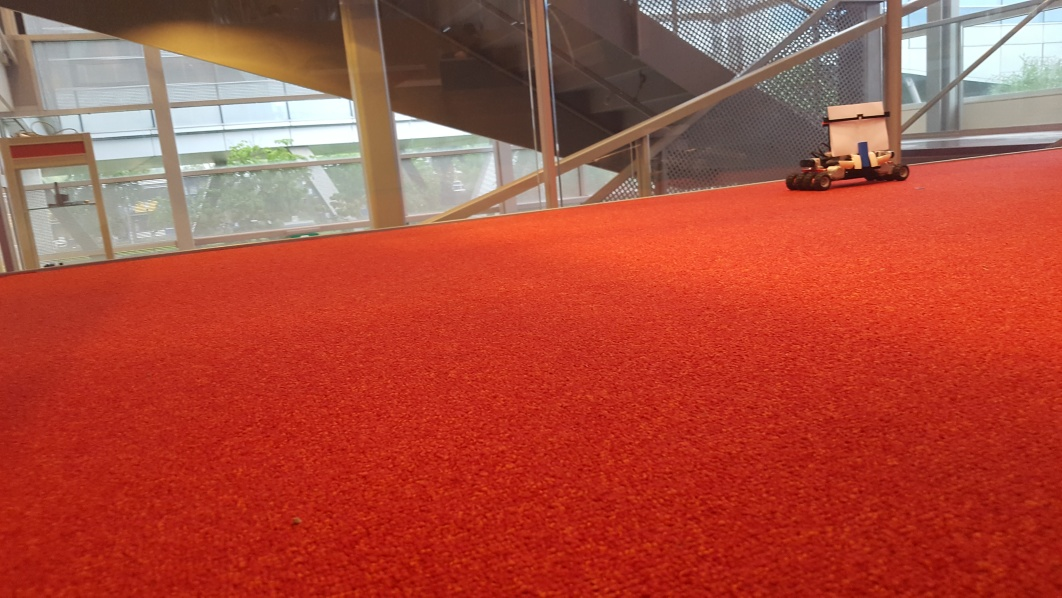car: (785, 100, 912, 191)
